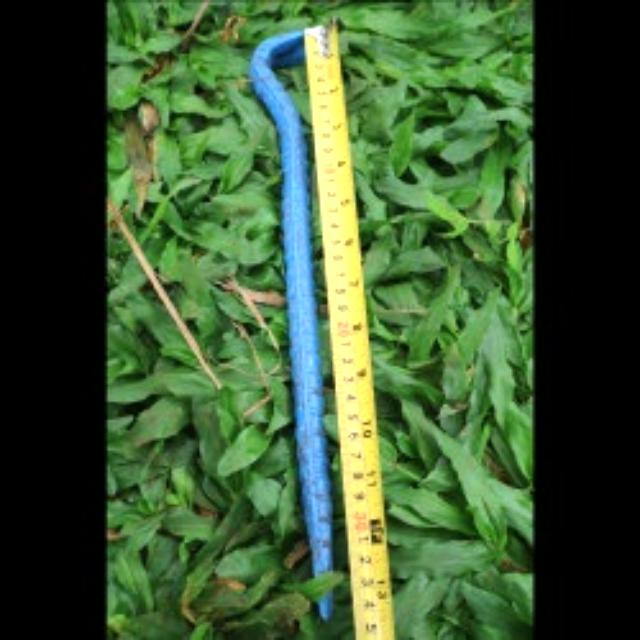crow bar: (255, 26, 339, 620)
